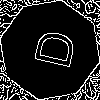D: (25, 25, 77, 71)
